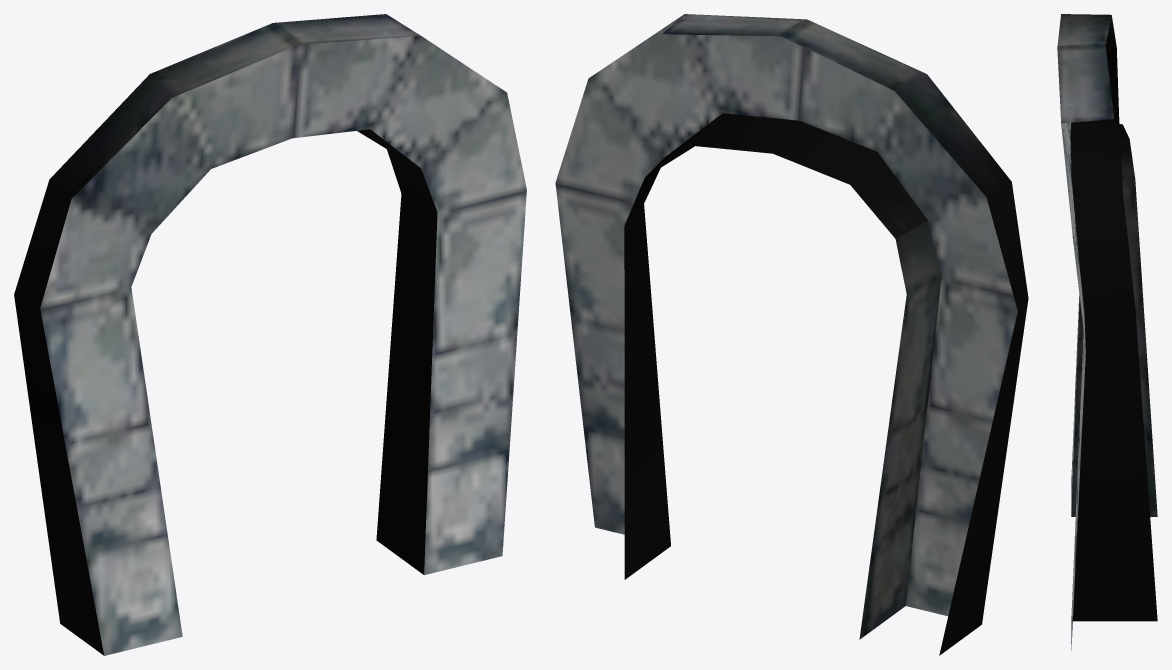
The model's file is arch.dae.
The picture shows the model from 3 angles, left to right: view 1: azimuth 30°, elevation 25°; view 2: azimuth 150°, elevation 25°; view 3: azimuth 270°, elevation 25°; orthographic projection. The views are drawn at different scales.
Visible parts, largest first — view 1: arch3D_PIVOT; view 2: arch3D_PIVOT; view 3: arch3D_PIVOT.
Boxes of the visible parts, x1,y1,x2,y2 form: arch3D_PIVOT: [14, 14, 526, 655]; arch3D_PIVOT: [555, 14, 1028, 655]; arch3D_PIVOT: [1057, 14, 1157, 650].
Size of the model in its own units: 3.9 by 4.32 by 0.7561.
Materials: 1 (1 with a texture image).
